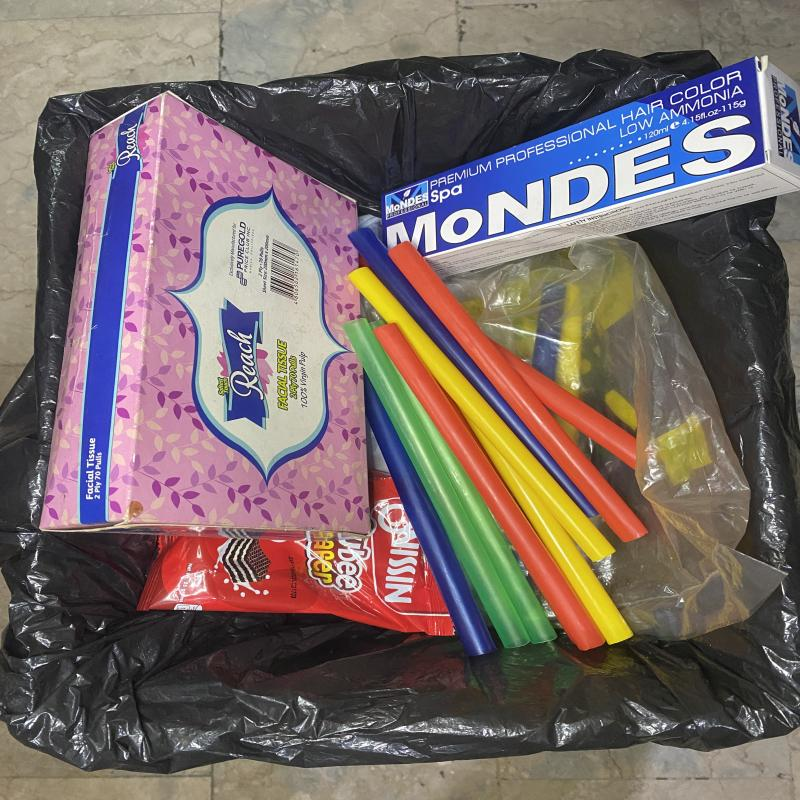cardboard: (42, 91, 370, 539), (381, 60, 800, 291)
food wrapper: (136, 471, 455, 635)
plastic bag: (441, 235, 786, 640), (457, 404, 634, 645)
plastic straw: (347, 266, 616, 562), (387, 240, 648, 543), (373, 323, 607, 651), (348, 228, 599, 518), (342, 318, 530, 648), (370, 320, 558, 644), (364, 370, 496, 655), (490, 338, 637, 472)
